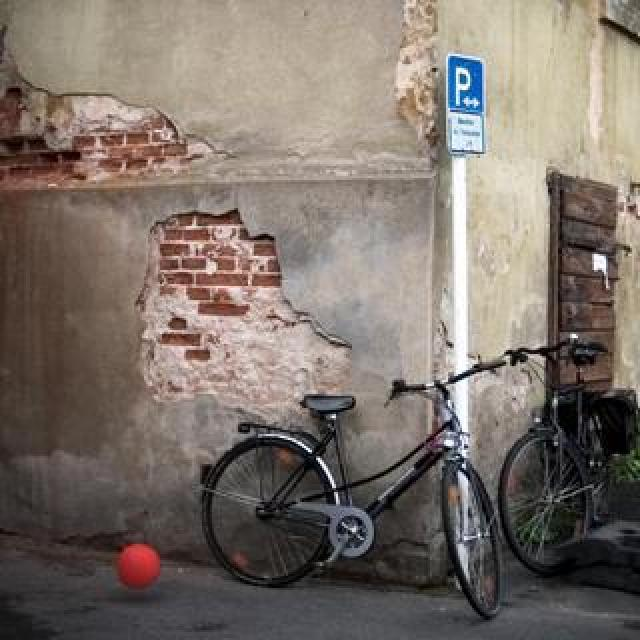Person: (202, 376, 504, 596), (496, 330, 640, 580)
